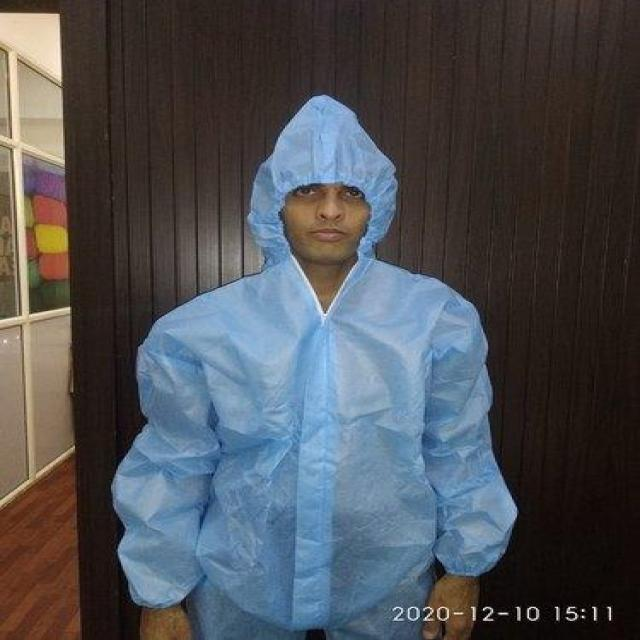Coverall: (113, 64, 504, 640)
